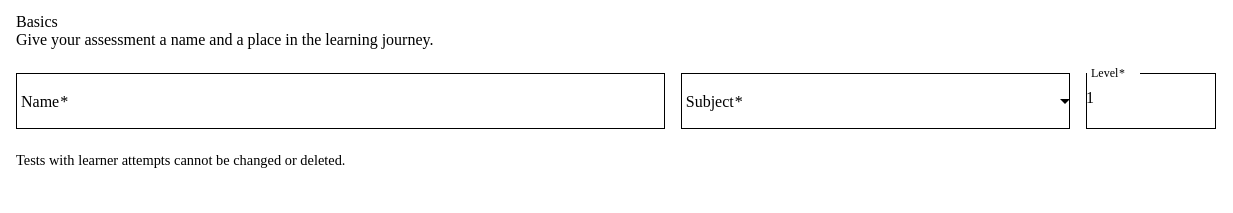
Test: dynamic assessment subject selection › renders server titles, saves the selected ID/title and retains selection after object replacement
Click the dropdown: (1065,101) [1053,89,1077,113]
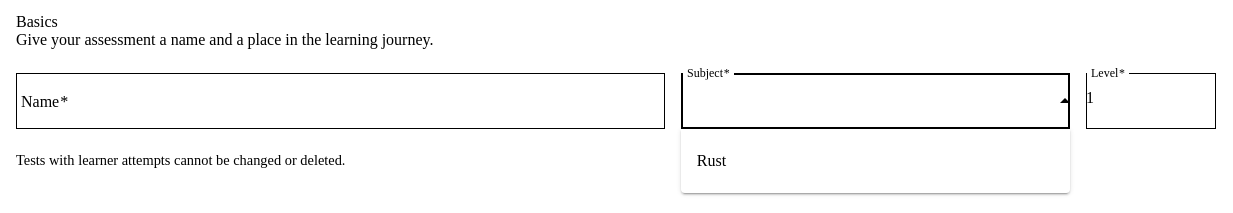
Click the option "Rust": (711,160) [697,152,726,169]
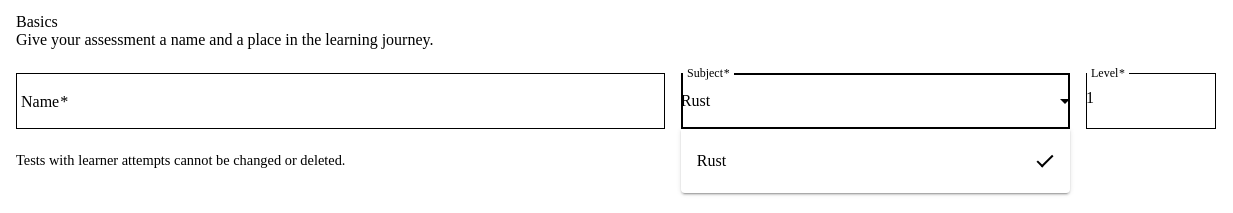
Now the 1st text "Rust" is shown, box [681,92,710,109]
